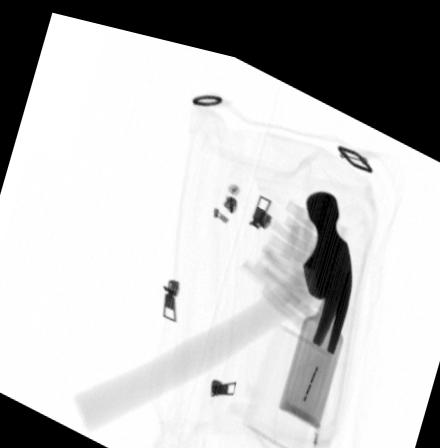Hammer: (74, 173, 351, 426)
